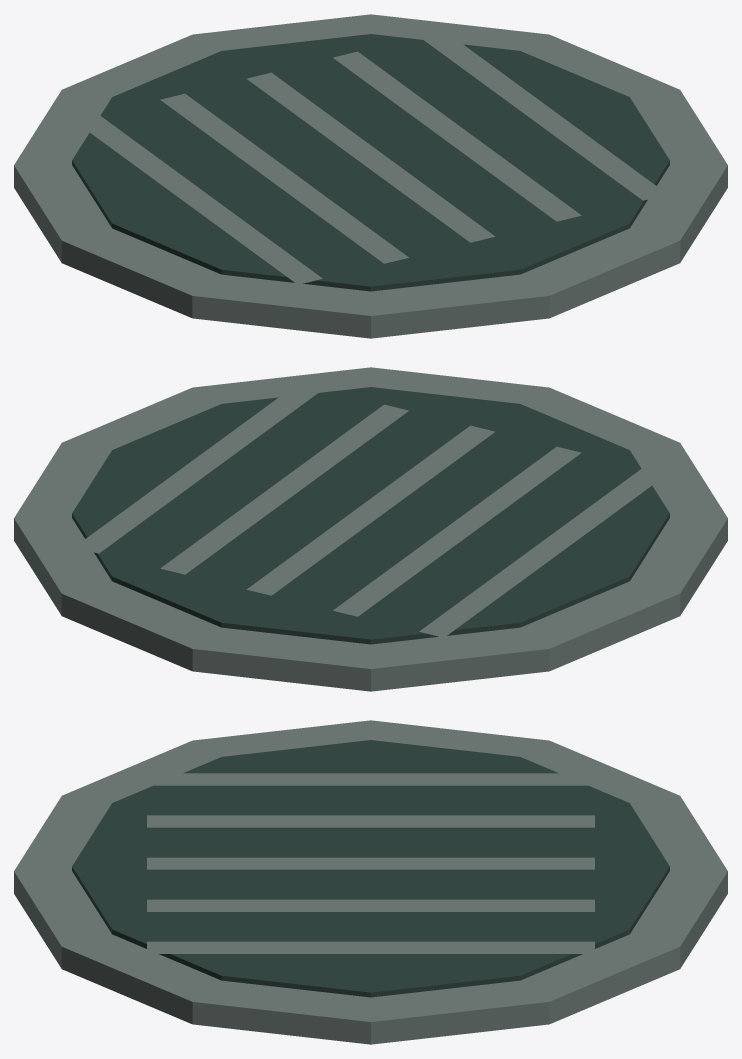
File: ManholeCover.obj
3 views of the same model, one above another, from view 1: azimuth 30°, elevation 25°; view 2: azimuth 150°, elevation 25°; view 3: azimuth 270°, elevation 25° (orthographic).
Parts seen in each view (by area): view 1: ManholeCover; view 2: ManholeCover; view 3: ManholeCover.
Boxes of the visible parts, left/top/right/bottom form: ManholeCover: left=14, top=14, right=727, bottom=338; ManholeCover: left=14, top=367, right=727, bottom=691; ManholeCover: left=14, top=720, right=727, bottom=1044.
Bounding box in the file's own units: 0.86 × 0.04 × 0.86.
1 material, 1 textured.
